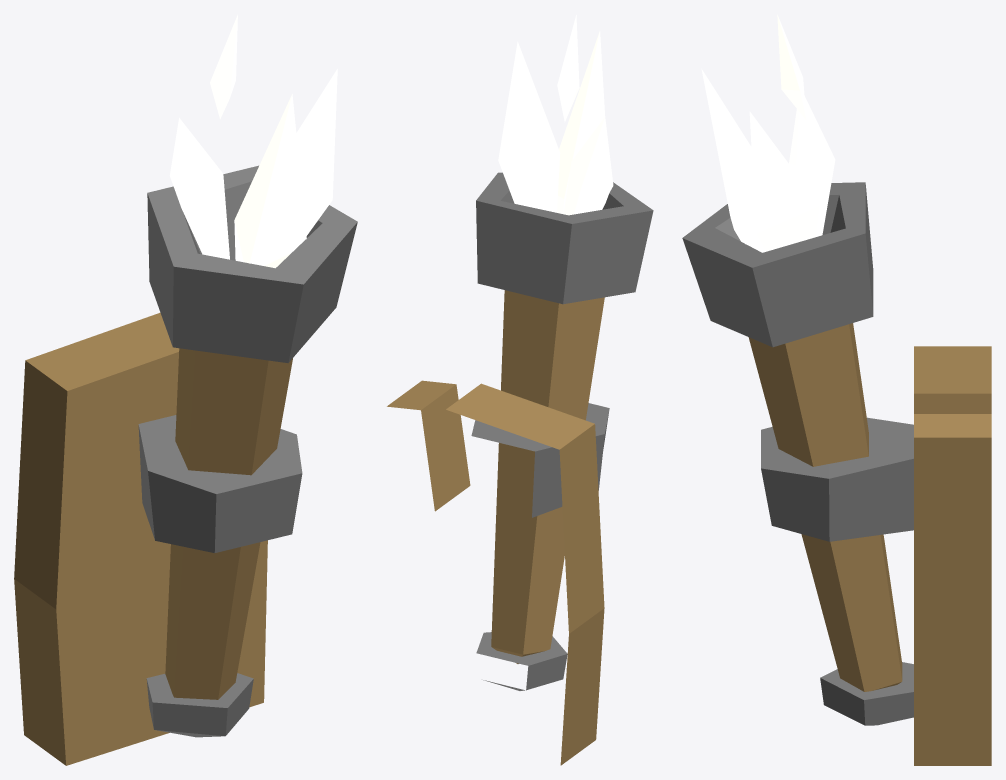
File: Torch_Holder.gltf
3 renders of one model, left to right at view 1: azimuth 30°, elevation 25°; view 2: azimuth 150°, elevation 25°; view 3: azimuth 270°, elevation 25°, orthographic. The views are drawn at different scales.
Visible parts, largest first — view 1: Torch_Holder2; view 2: Torch_Holder2; view 3: Torch_Holder2.
Boxes of the visible parts, x1,y1,x2,y2 form: Torch_Holder2: [14, 14, 357, 765]; Torch_Holder2: [387, 15, 653, 765]; Torch_Holder2: [682, 14, 991, 765].
Size of the model in its own units: 0.0624 by 0.2154 by 0.0838.
Materials: 2 (2 with a texture image).
